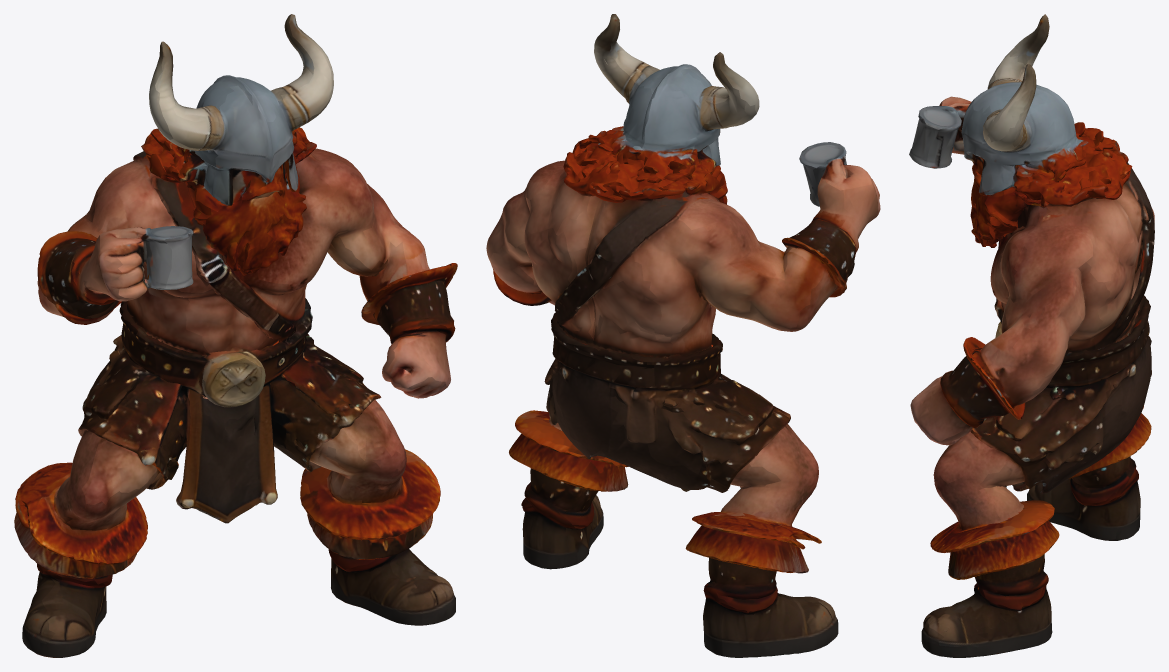
Rendered from balduvianbarbarian.fbx.
3 renders of one model, left to right at view 1: azimuth 30°, elevation 25°; view 2: azimuth 150°, elevation 25°; view 3: azimuth 270°, elevation 25°, orthographic. The views are drawn at different scales.
Parts seen in each view (by area): view 1: textured_mesh; view 2: textured_mesh; view 3: textured_mesh.
Part boxes in pixels (x1,y1,x2,y2): textured_mesh: (14, 14, 457, 657); textured_mesh: (486, 14, 880, 657); textured_mesh: (909, 14, 1154, 657).
Bounding box in the file's own units: 138 × 199 × 81.86.
1 material, 1 textured.
